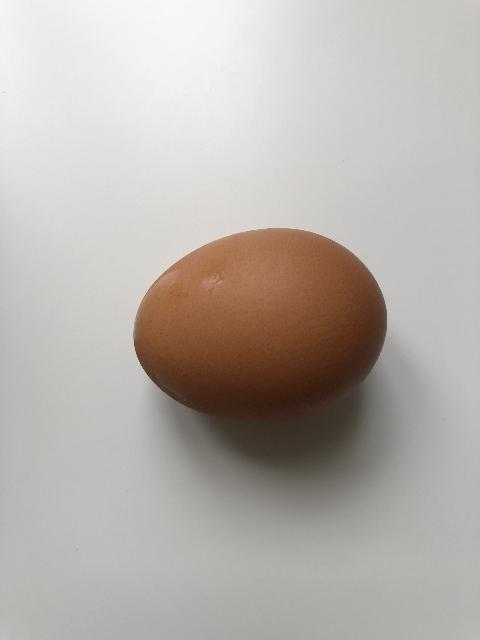Sano: (132, 226, 388, 423)
